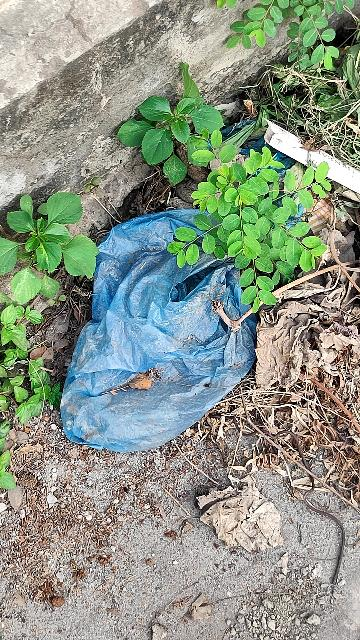polythene: (52, 197, 286, 456)
